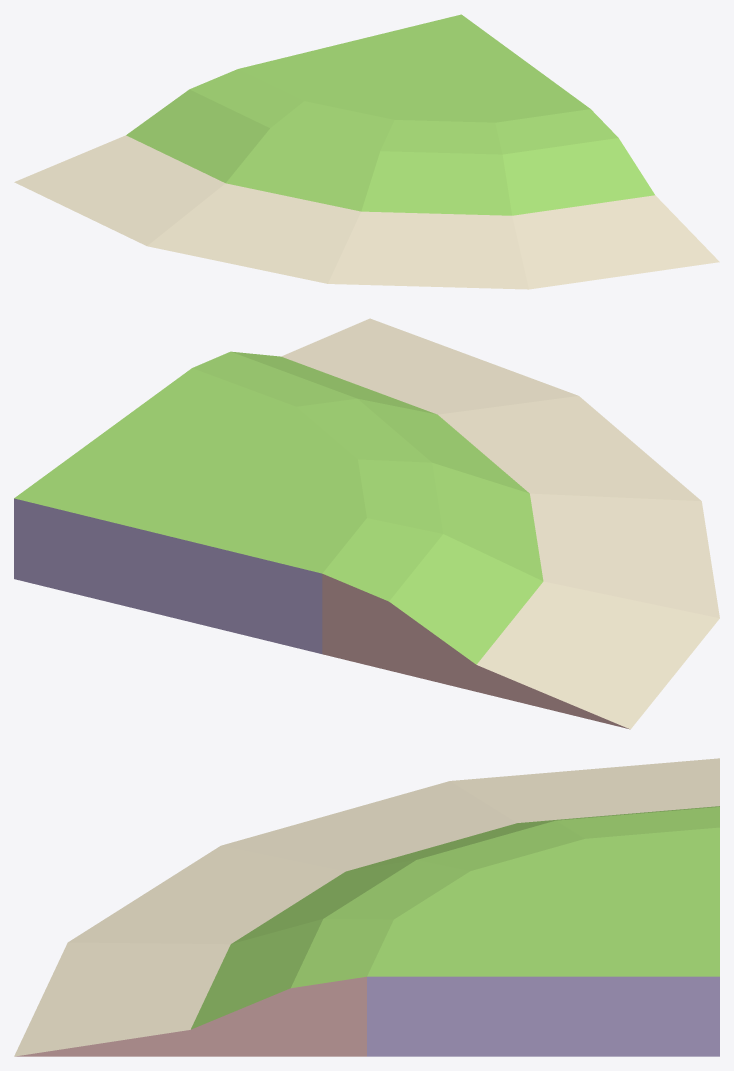
File: Path_Terrain_Basic_Curve_Outer_2x2.glb
3 views of the same model, one above another, from view 1: azimuth 30°, elevation 25°; view 2: azimuth 150°, elevation 25°; view 3: azimuth 270°, elevation 25° (orthographic). The views are drawn at different scales.
Visible parts, largest first — view 1: Path_Terrain_Basic_Curve_Outer_2x2; view 2: Path_Terrain_Basic_Curve_Outer_2x2; view 3: Path_Terrain_Basic_Curve_Outer_2x2.
Part boxes in pixels (left/top/right/bottom): Path_Terrain_Basic_Curve_Outer_2x2: left=14, top=14, right=719, bottom=289; Path_Terrain_Basic_Curve_Outer_2x2: left=14, top=318, right=719, bottom=729; Path_Terrain_Basic_Curve_Outer_2x2: left=14, top=758, right=719, bottom=1056.
Size of the model in its own units: 200 by 25 by 200.
